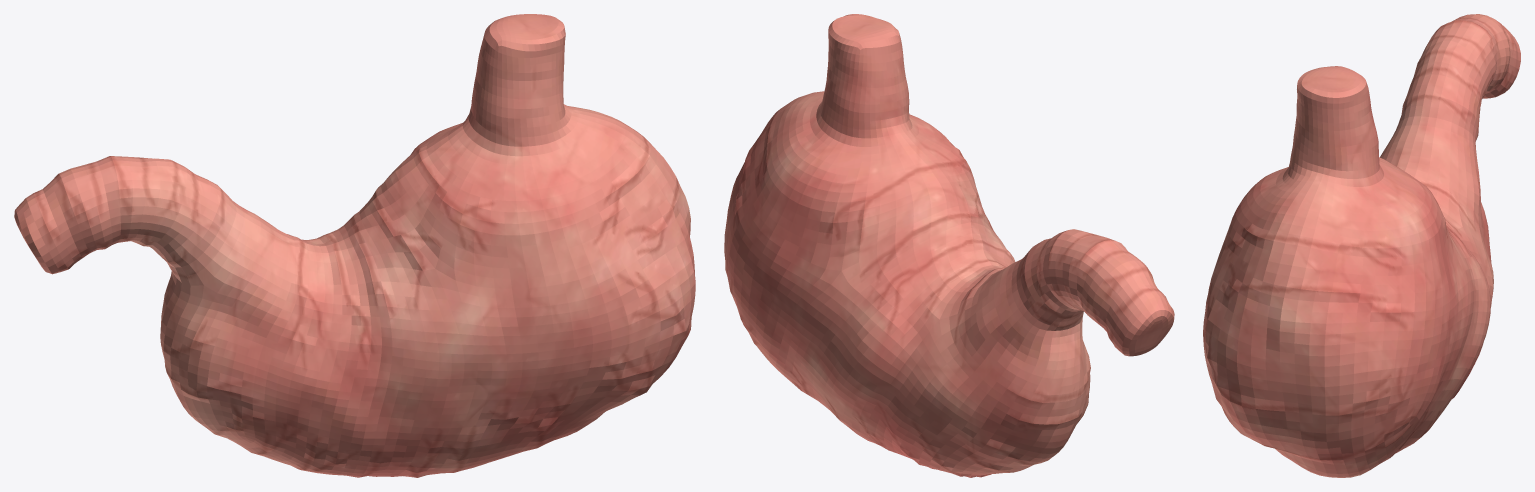
Rendered from Stomach.glb.
3 views of the same model, side by side, from view 1: azimuth 30°, elevation 25°; view 2: azimuth 150°, elevation 25°; view 3: azimuth 270°, elevation 25° (orthographic). The views are drawn at different scales.
Visible parts, largest first — view 1: StomachDynameshLow:ZBrushPolyMesh3D; view 2: StomachDynameshLow:ZBrushPolyMesh3D; view 3: StomachDynameshLow:ZBrushPolyMesh3D.
Part boxes in pixels (x1,y1,x2,y2): StomachDynameshLow:ZBrushPolyMesh3D: (14,14,695,477); StomachDynameshLow:ZBrushPolyMesh3D: (724,14,1174,477); StomachDynameshLow:ZBrushPolyMesh3D: (1203,14,1520,477).
Size of the model in its own units: 68.57 by 50.03 by 35.77.
Materials: 1 (1 with a texture image).
